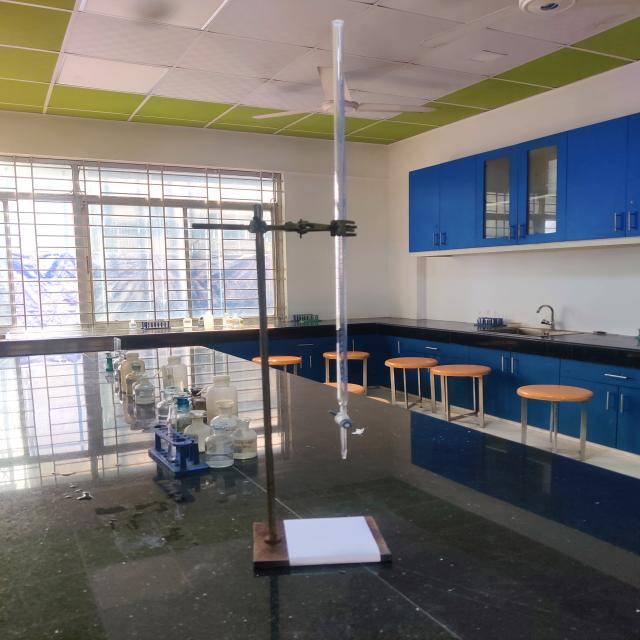Burette_Stands: (169, 195, 420, 616)
